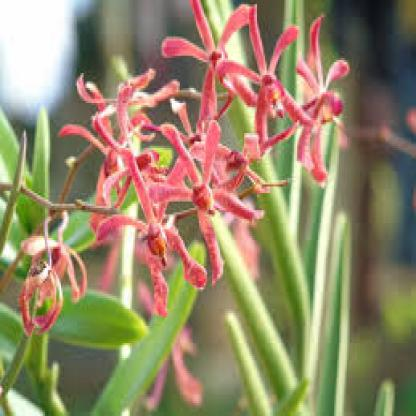ANGGREK: (14, 23, 374, 374)
